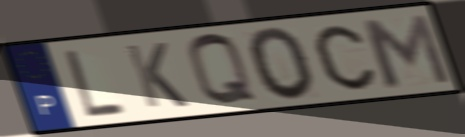C: (311, 22, 379, 92)
K: (121, 40, 193, 111)
L: (61, 47, 130, 119)
M: (356, 11, 455, 90)
O: (246, 25, 318, 104)
Q: (185, 31, 262, 109)
